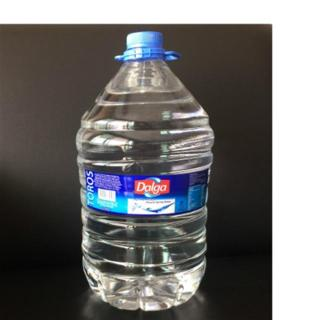Plastic-bottle: (75, 27, 219, 317)
